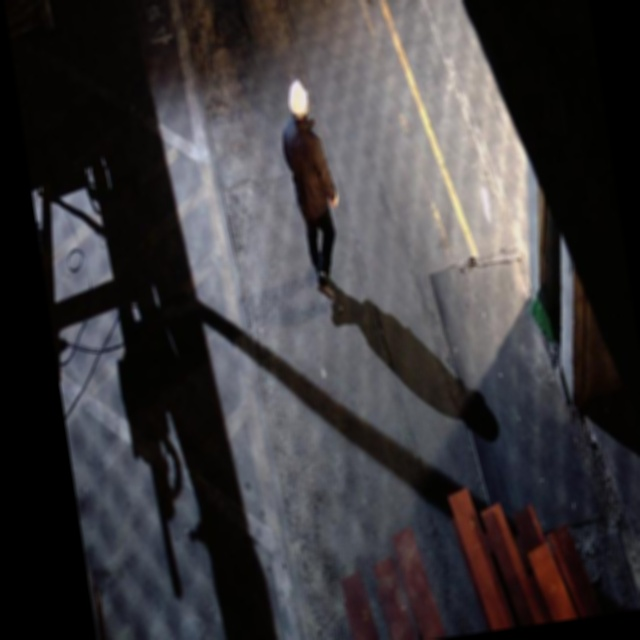Con_Casco: (284, 77, 313, 123)
Sin_Chaleco: (282, 123, 331, 219)
